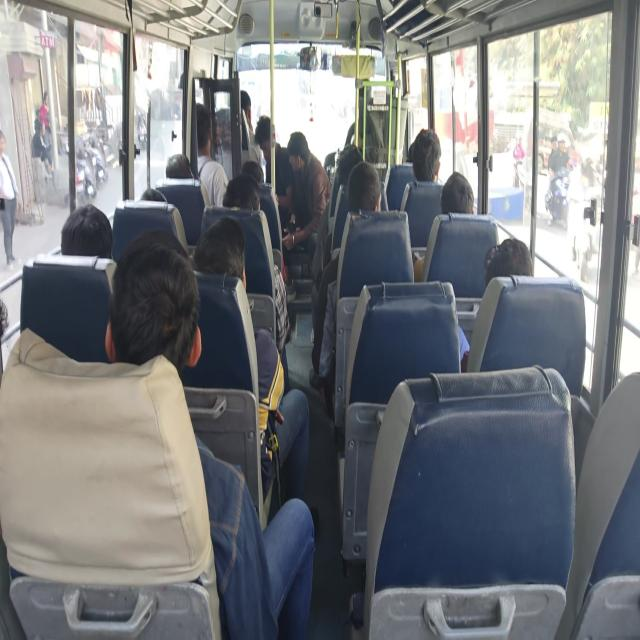person: (118, 265, 202, 383), (193, 221, 254, 289), (58, 208, 115, 272), (480, 242, 533, 300), (221, 174, 261, 220), (410, 124, 439, 187), (443, 172, 474, 230), (349, 171, 383, 223), (337, 142, 366, 192), (130, 177, 168, 207), (162, 153, 194, 183), (254, 122, 277, 163), (191, 106, 212, 149), (236, 86, 256, 130), (284, 136, 306, 174), (237, 162, 269, 188), (351, 78, 375, 111)
